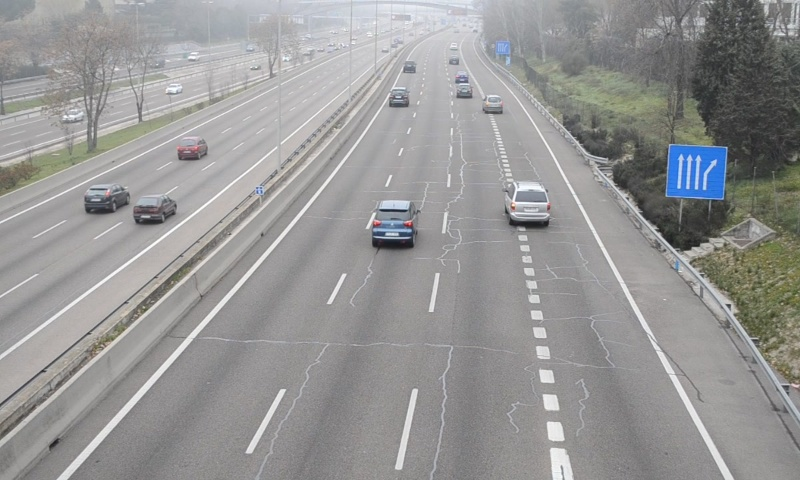car: (372, 200, 417, 244), (505, 181, 550, 222), (388, 86, 410, 107), (482, 93, 502, 114), (456, 82, 474, 98)
